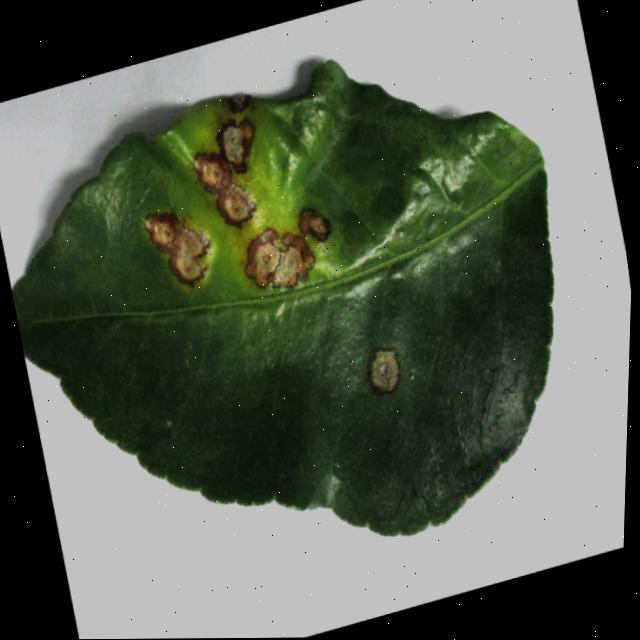antracnose: (12, 61, 553, 534), (145, 213, 208, 286), (245, 228, 314, 287), (217, 120, 254, 173), (217, 183, 255, 227), (194, 153, 232, 194), (368, 349, 400, 394), (299, 208, 331, 242)
